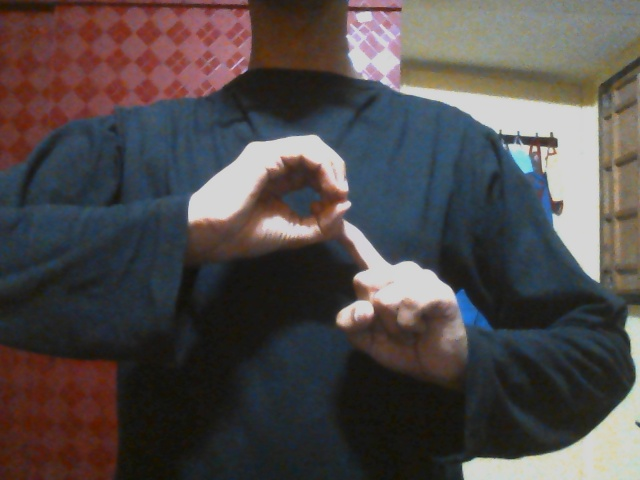Q: (197, 133, 459, 395)
